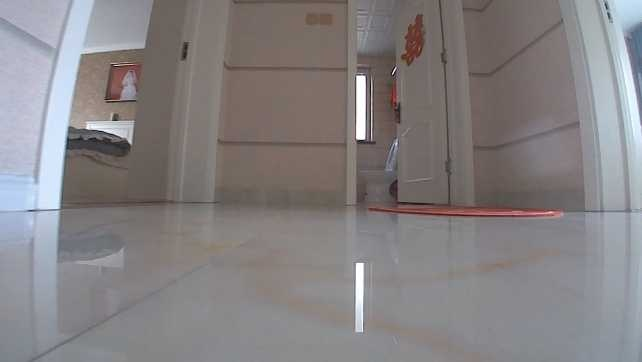blanket: (366, 202, 564, 215)
door_anno: (393, 0, 478, 206)
toilet: (356, 137, 398, 206)
